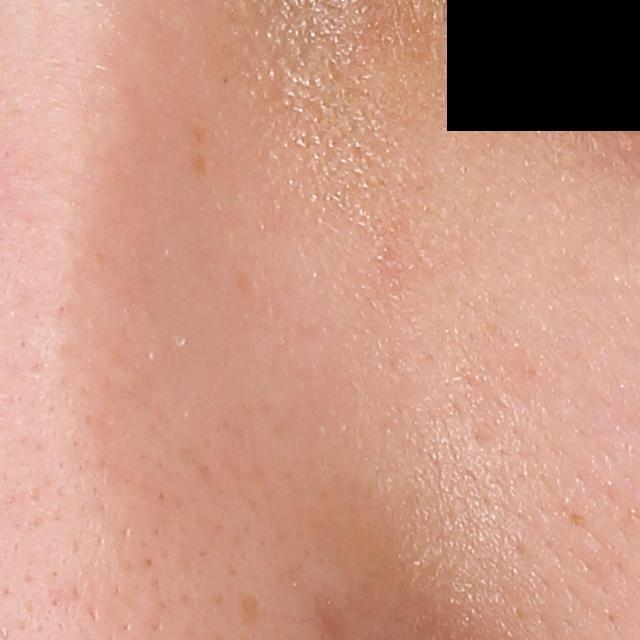melasma: (236, 589, 264, 633), (191, 150, 207, 186)
